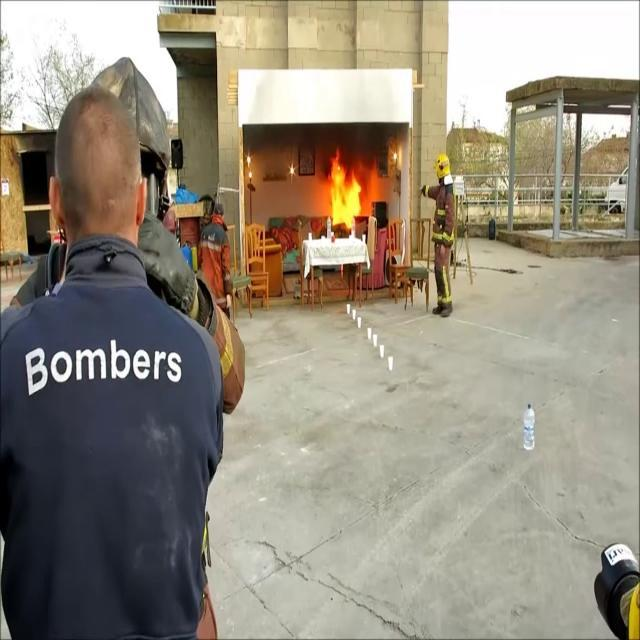Fire: (322, 153, 375, 235)
